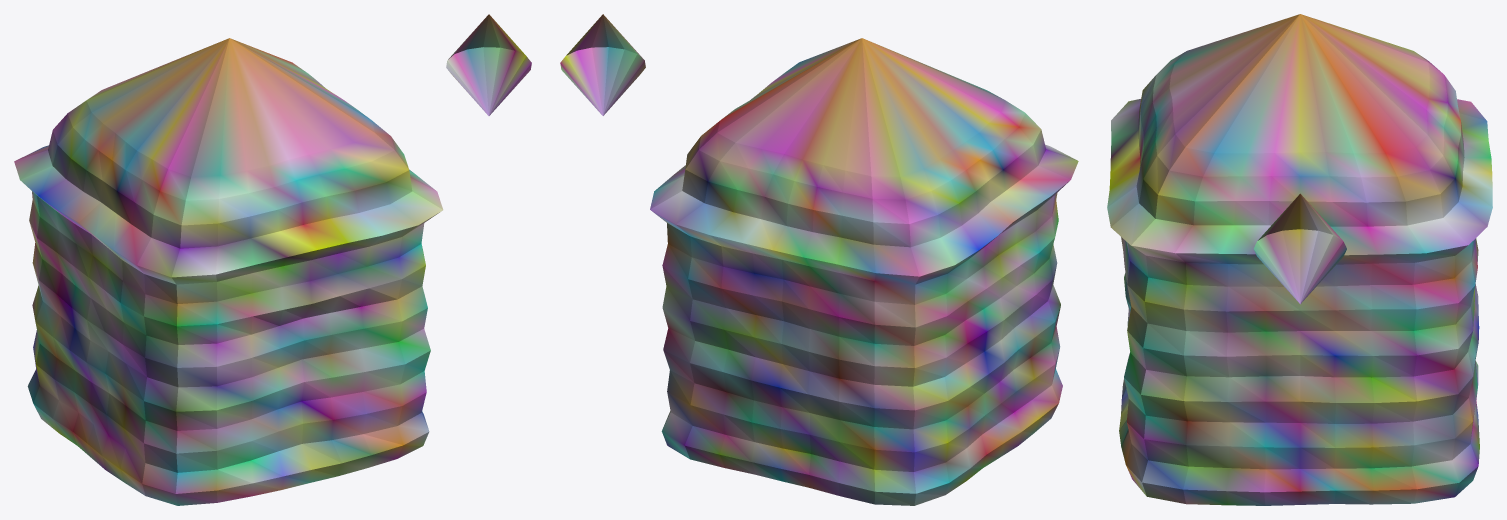
Rendered from stage4q_generated_multicomponent.glb.
3 views of the same model, side by side, from view 1: azimuth 30°, elevation 25°; view 2: azimuth 150°, elevation 25°; view 3: azimuth 270°, elevation 25° (orthographic). The views are drawn at different scales.
Visible parts, largest first — view 1: generated_topology; view 2: generated_topology; view 3: generated_topology.
Part boxes in pixels (x1=…): generated_topology: x1=14, y1=14, x2=531, y2=505; generated_topology: x1=560, y1=14, x2=1078, y2=505; generated_topology: x1=1107, y1=14, x2=1492, y2=505.
Size of the model in its own units: 7.82 by 6.4 by 5.35.
